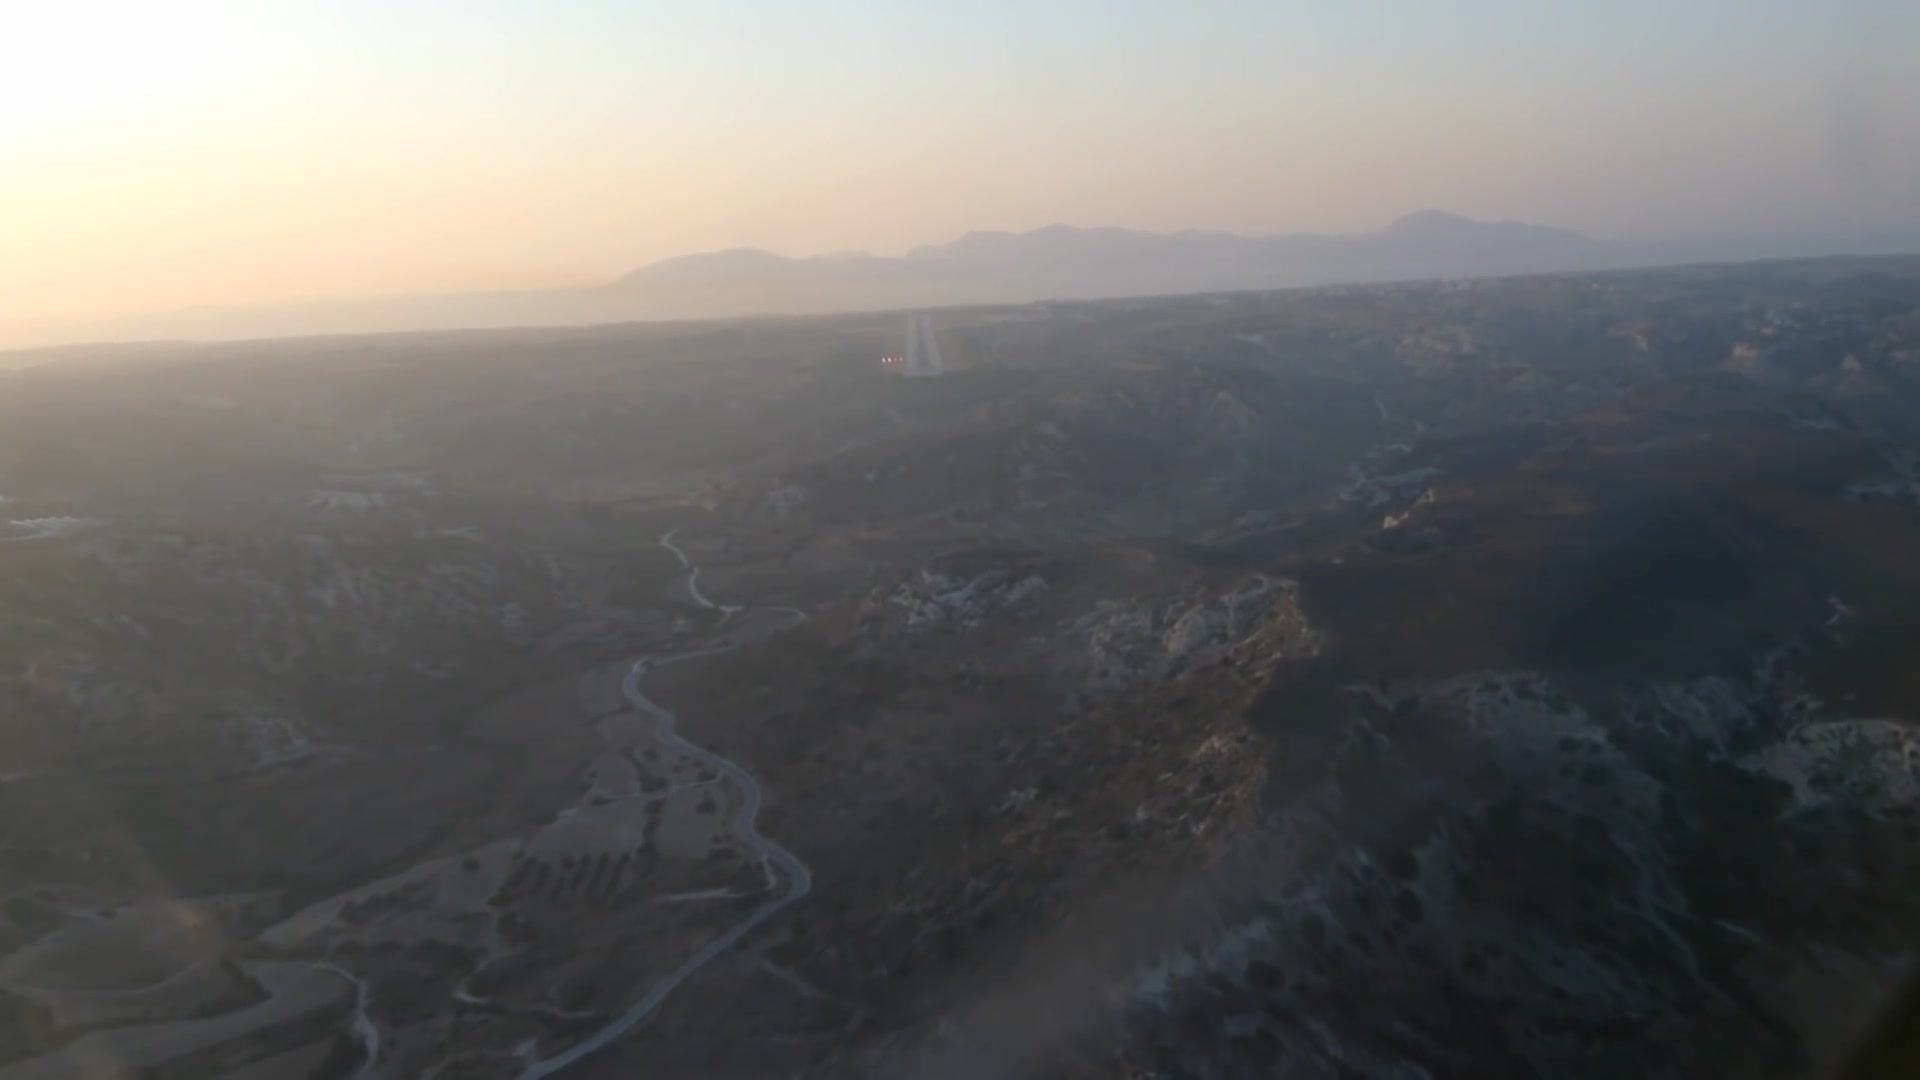runway: (903, 313, 944, 378)
